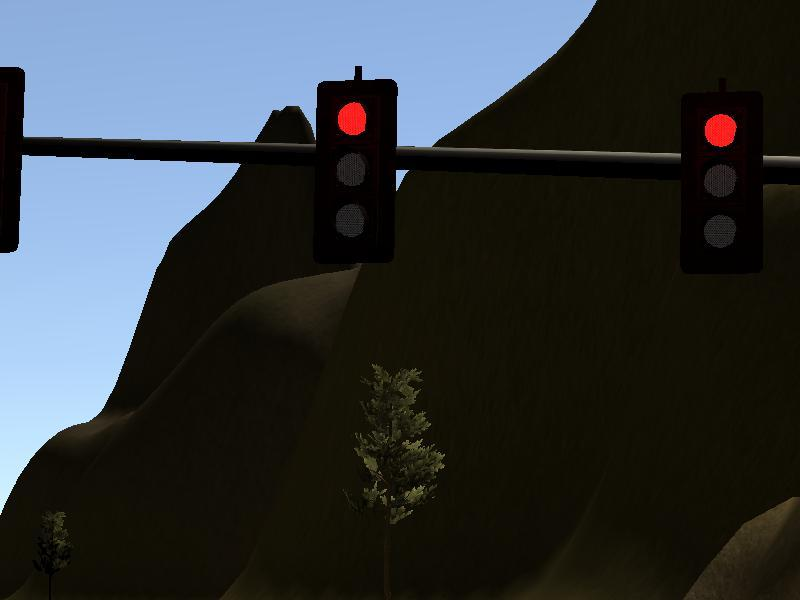Red: (318, 83, 397, 255), (687, 92, 764, 267)
